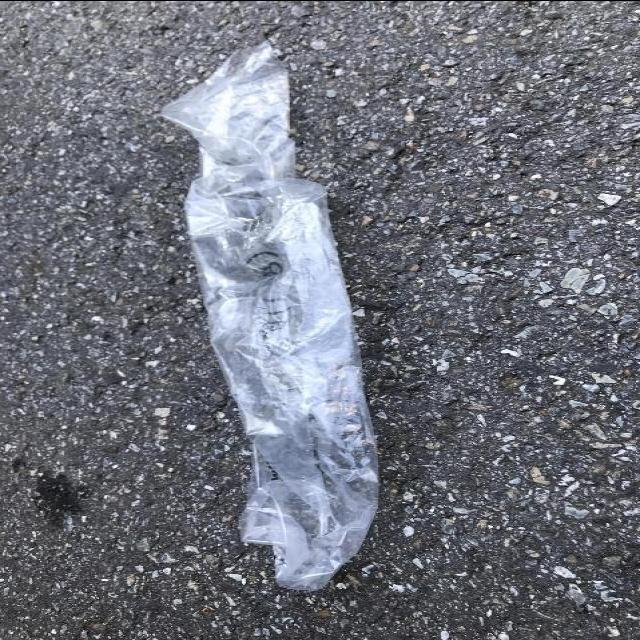plastic bag: (152, 37, 384, 591)
